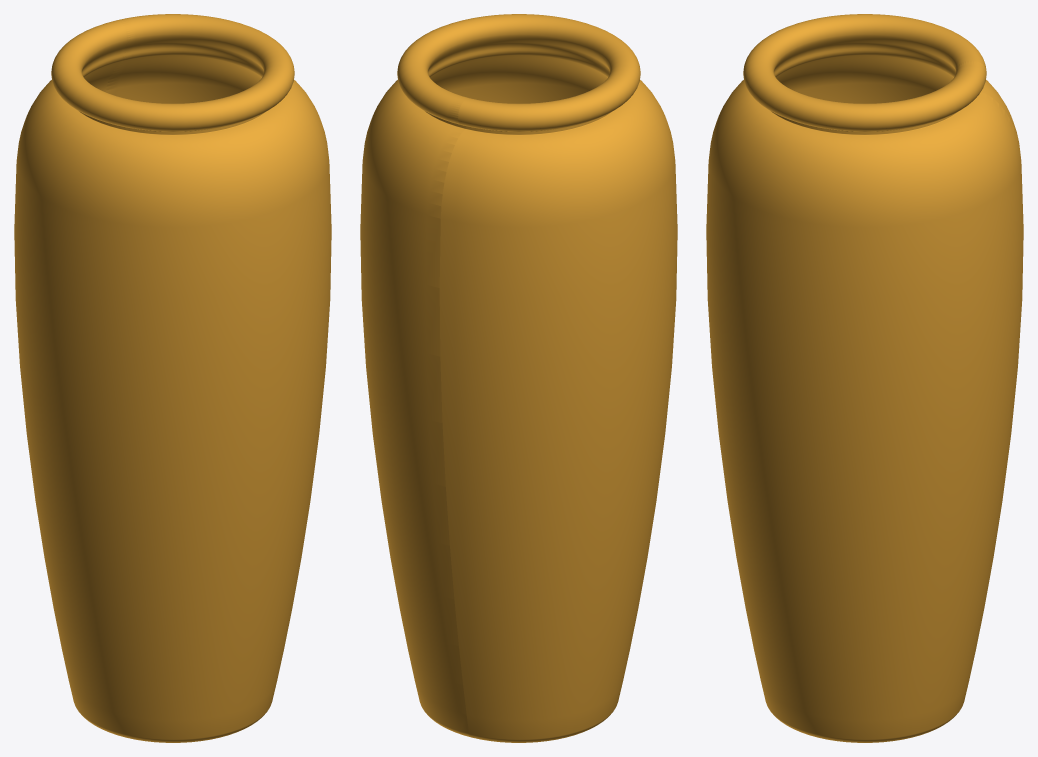
File: vaso_rami1.fbx
3 views of the same model, side by side, from view 1: azimuth 30°, elevation 25°; view 2: azimuth 150°, elevation 25°; view 3: azimuth 270°, elevation 25° (orthographic).
Visible parts, largest first — view 1: Line006_2.002; view 2: Line006_2.002; view 3: Line006_2.002.
Boxes of the visible parts, bbox=[...] form: Line006_2.002: bbox=[14, 14, 331, 742]; Line006_2.002: bbox=[360, 14, 677, 742]; Line006_2.002: bbox=[706, 14, 1023, 742].
Bounding box in the file's own units: 15.31 × 34.26 × 15.31.
